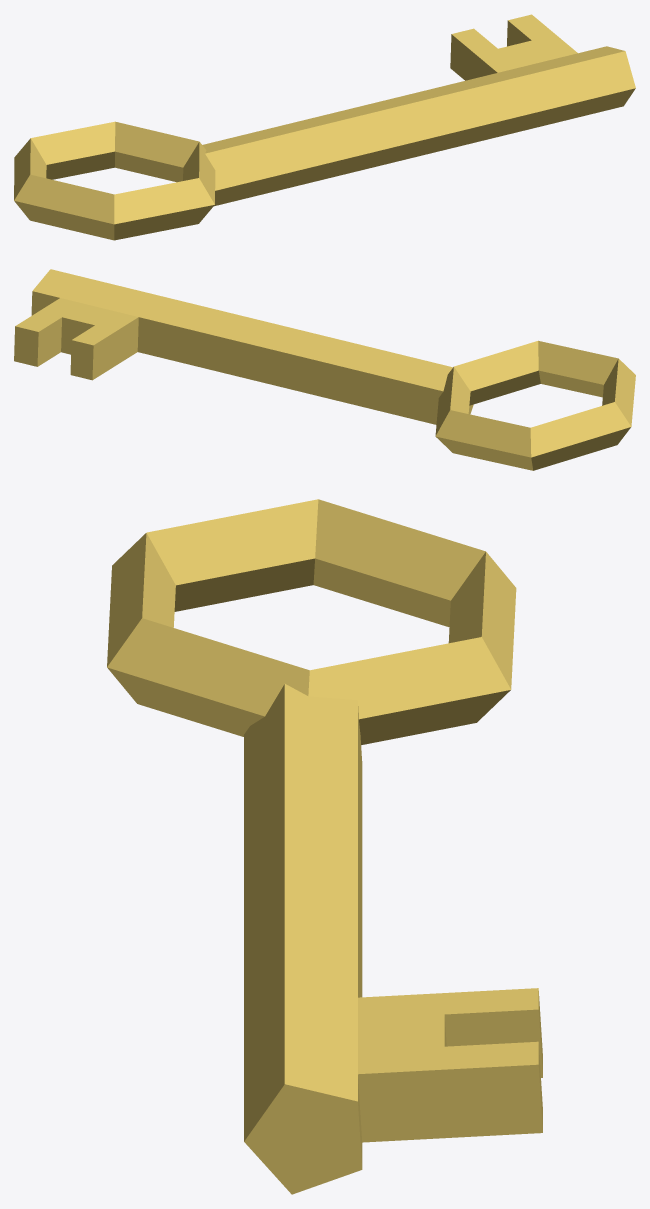
File: key.fbx
The picture shows the model from 3 angles, top to bottom: view 1: azimuth 30°, elevation 25°; view 2: azimuth 150°, elevation 25°; view 3: azimuth 270°, elevation 25°; orthographic projection. The views are drawn at different scales.
Parts seen in each view (by area): view 1: key1; view 2: key1; view 3: key1.
Boxes of the visible parts, x1=… form: key1: x1=14, y1=14, x2=635, y2=240; key1: x1=14, y1=269, x2=635, y2=470; key1: x1=107, y1=499, x2=542, y2=1194.
Size of the model in its own units: 2.12 by 0.2431 by 0.6789.
